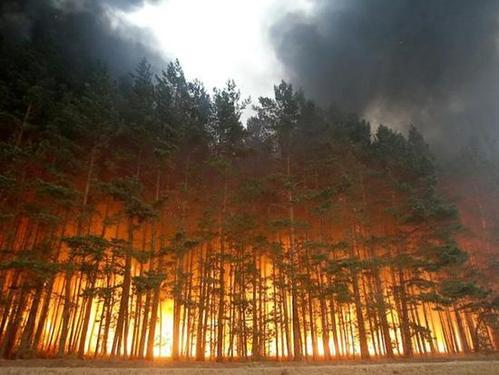fire: (44, 250, 470, 361)
smoke: (292, 1, 499, 147), (85, 2, 278, 107)
